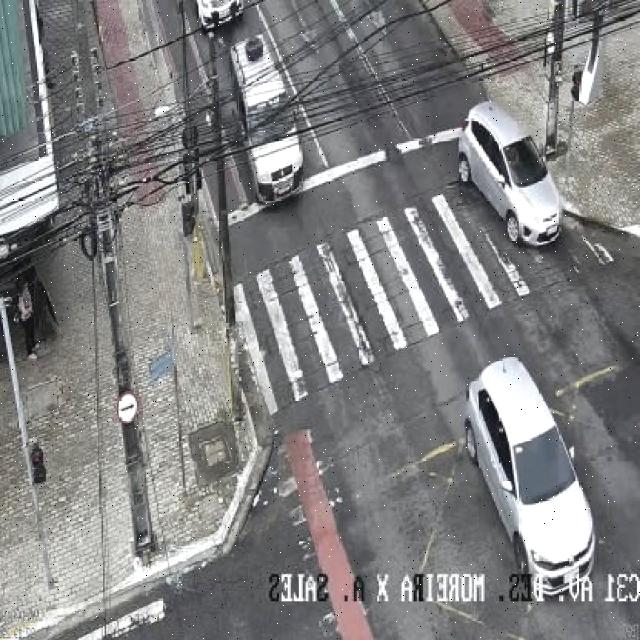Car: (462, 355, 596, 595), (456, 98, 564, 246)
Van: (226, 36, 305, 205)
